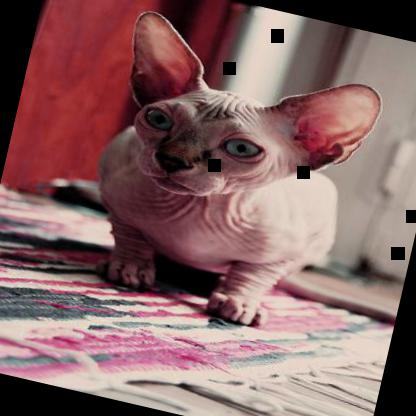cat: (71, 7, 393, 345)
